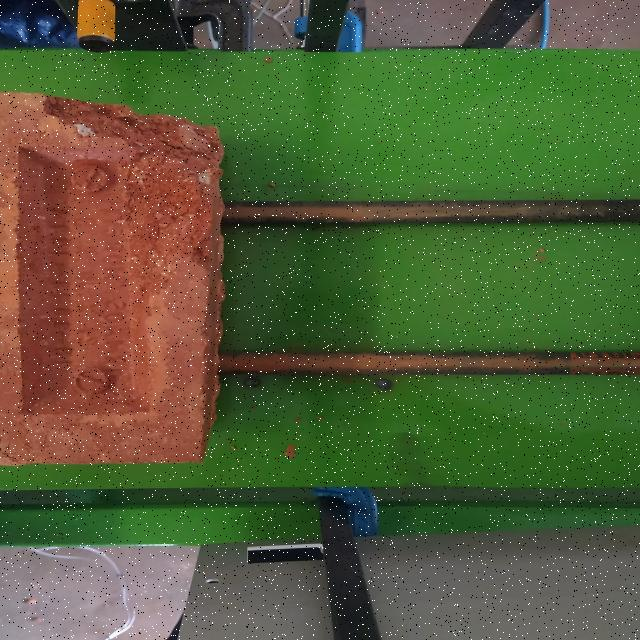bricks_ruin: (0, 92, 233, 465)
